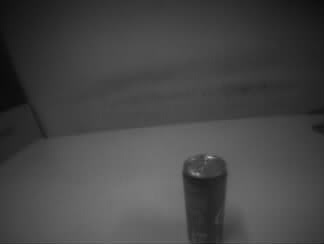Tin can: (182, 152, 228, 244)
